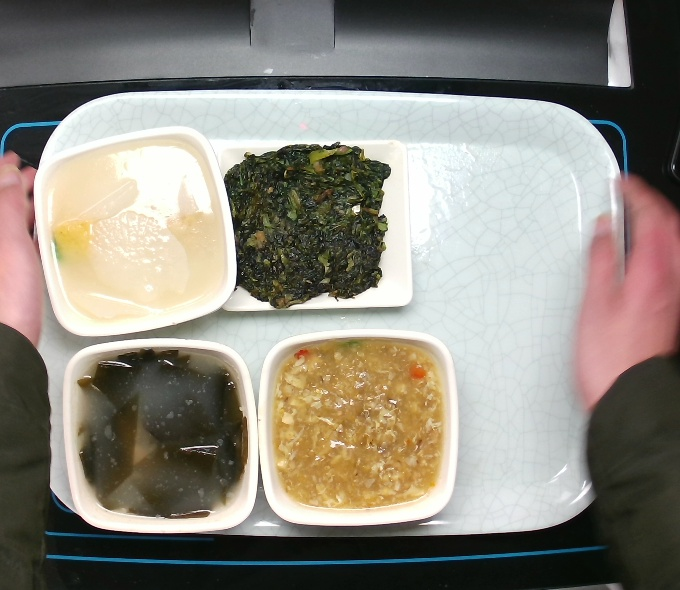wcq-HaiDaiPaiGuTang: (72, 346, 250, 523)
wcq-LuoBoYouPaoTang: (38, 133, 232, 325)
wcq-QinCaiBing: (211, 142, 398, 312)
wcq-SuanLaGeng: (268, 339, 448, 513)
